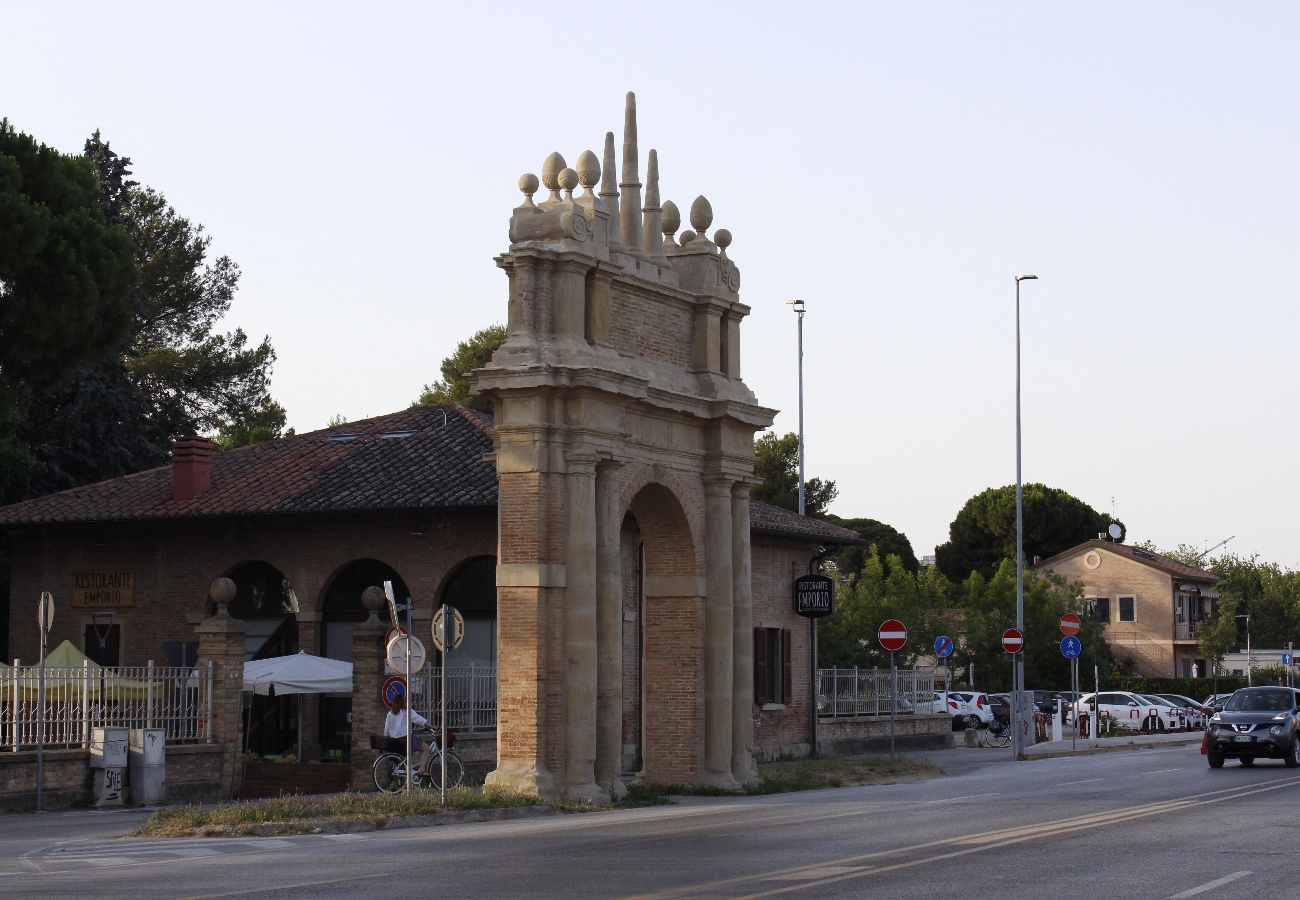Arco di Trionfo: (465, 92, 783, 805)
